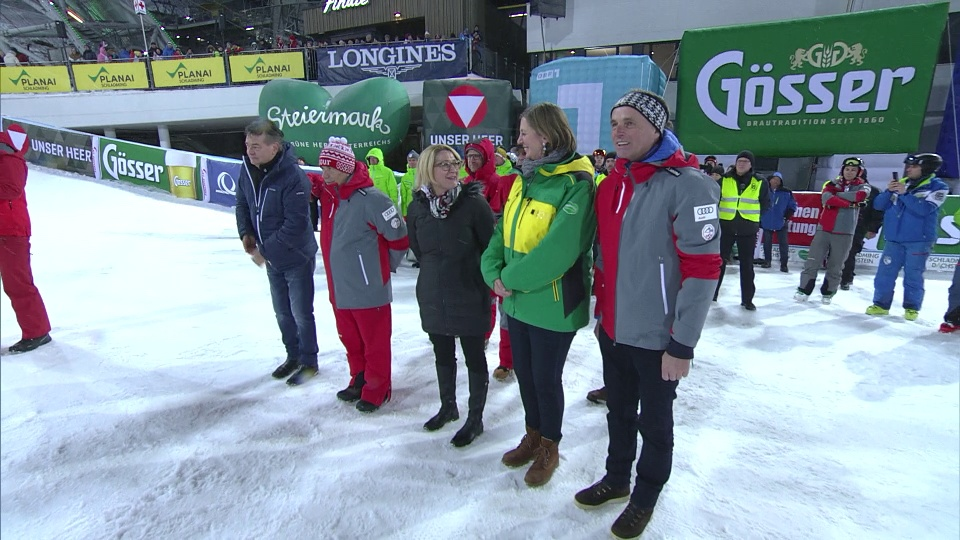audi: (694, 205, 719, 221)
goesser: (682, 39, 940, 134), (101, 141, 182, 195)
kronenzeitung: (790, 202, 826, 241)
longines: (322, 41, 476, 81)
steiermark: (258, 82, 401, 144)
uniqa: (213, 158, 250, 198)
unserheer: (1, 109, 90, 172), (434, 89, 502, 149)
